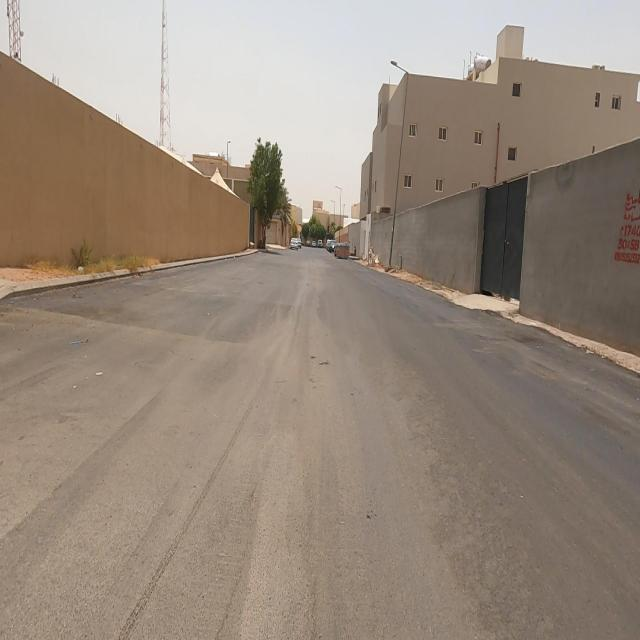Graffiti: (614, 183, 640, 264)
